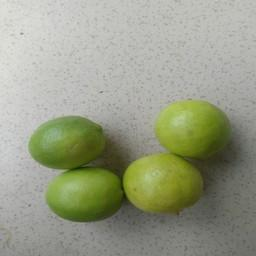Good_lime: (121, 152, 204, 218), (152, 96, 232, 159), (38, 166, 124, 224), (25, 113, 105, 171)
